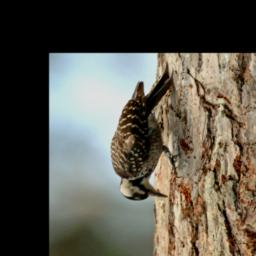Woodpecker: (109, 62, 183, 204)
